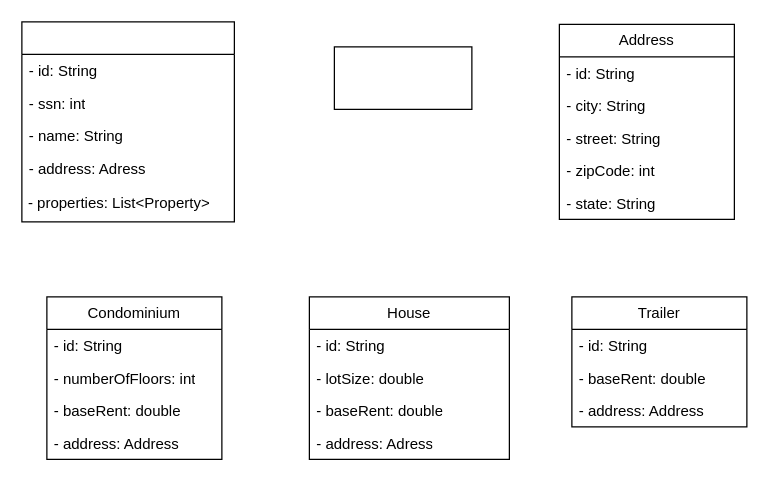
Some shapes in this 769 by 485 pixel diagram are drawn without their labels. Here are the shapes that lost their labels. From the top down, the box of each, then its label:
(333, 46, 472, 109): «interface» Property
(21, 21, 234, 222): Landlord
